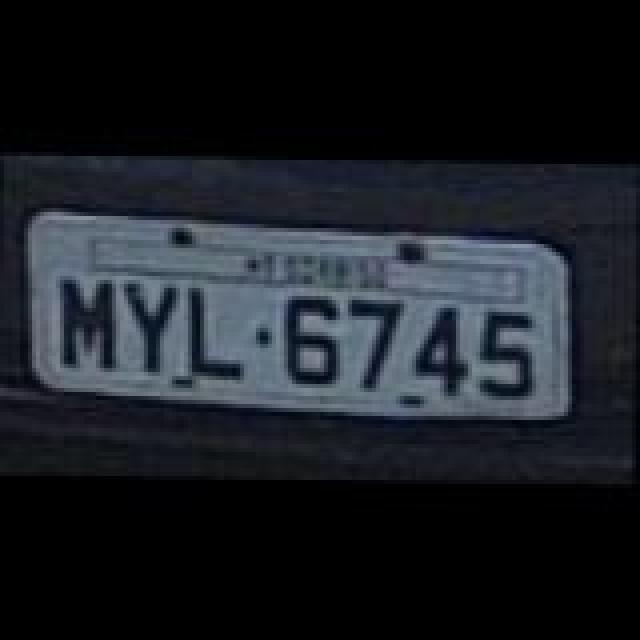4: (412, 310, 472, 398)
5: (478, 310, 542, 402)
6: (280, 294, 348, 386)
7: (348, 300, 408, 392)
L: (186, 288, 250, 380)
M: (58, 276, 122, 372)
Y: (120, 284, 180, 376)
